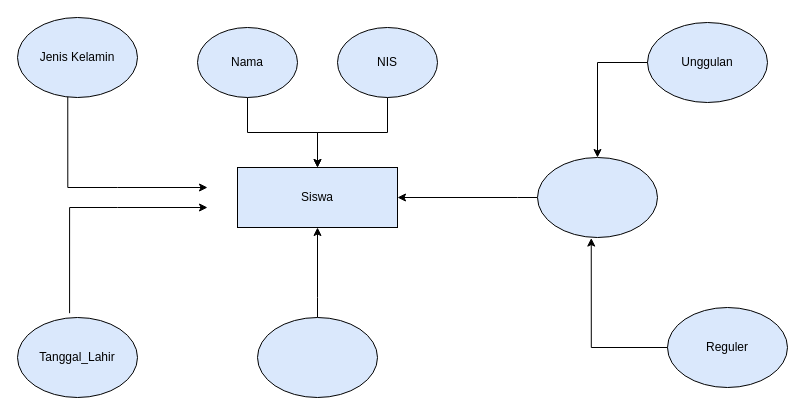
This 805x415 diagram has some shape labels left out. The centre of each missing label's shape, as x and y in pixels:
Alamat: point (317, 357)
Kelas: point (597, 197)
